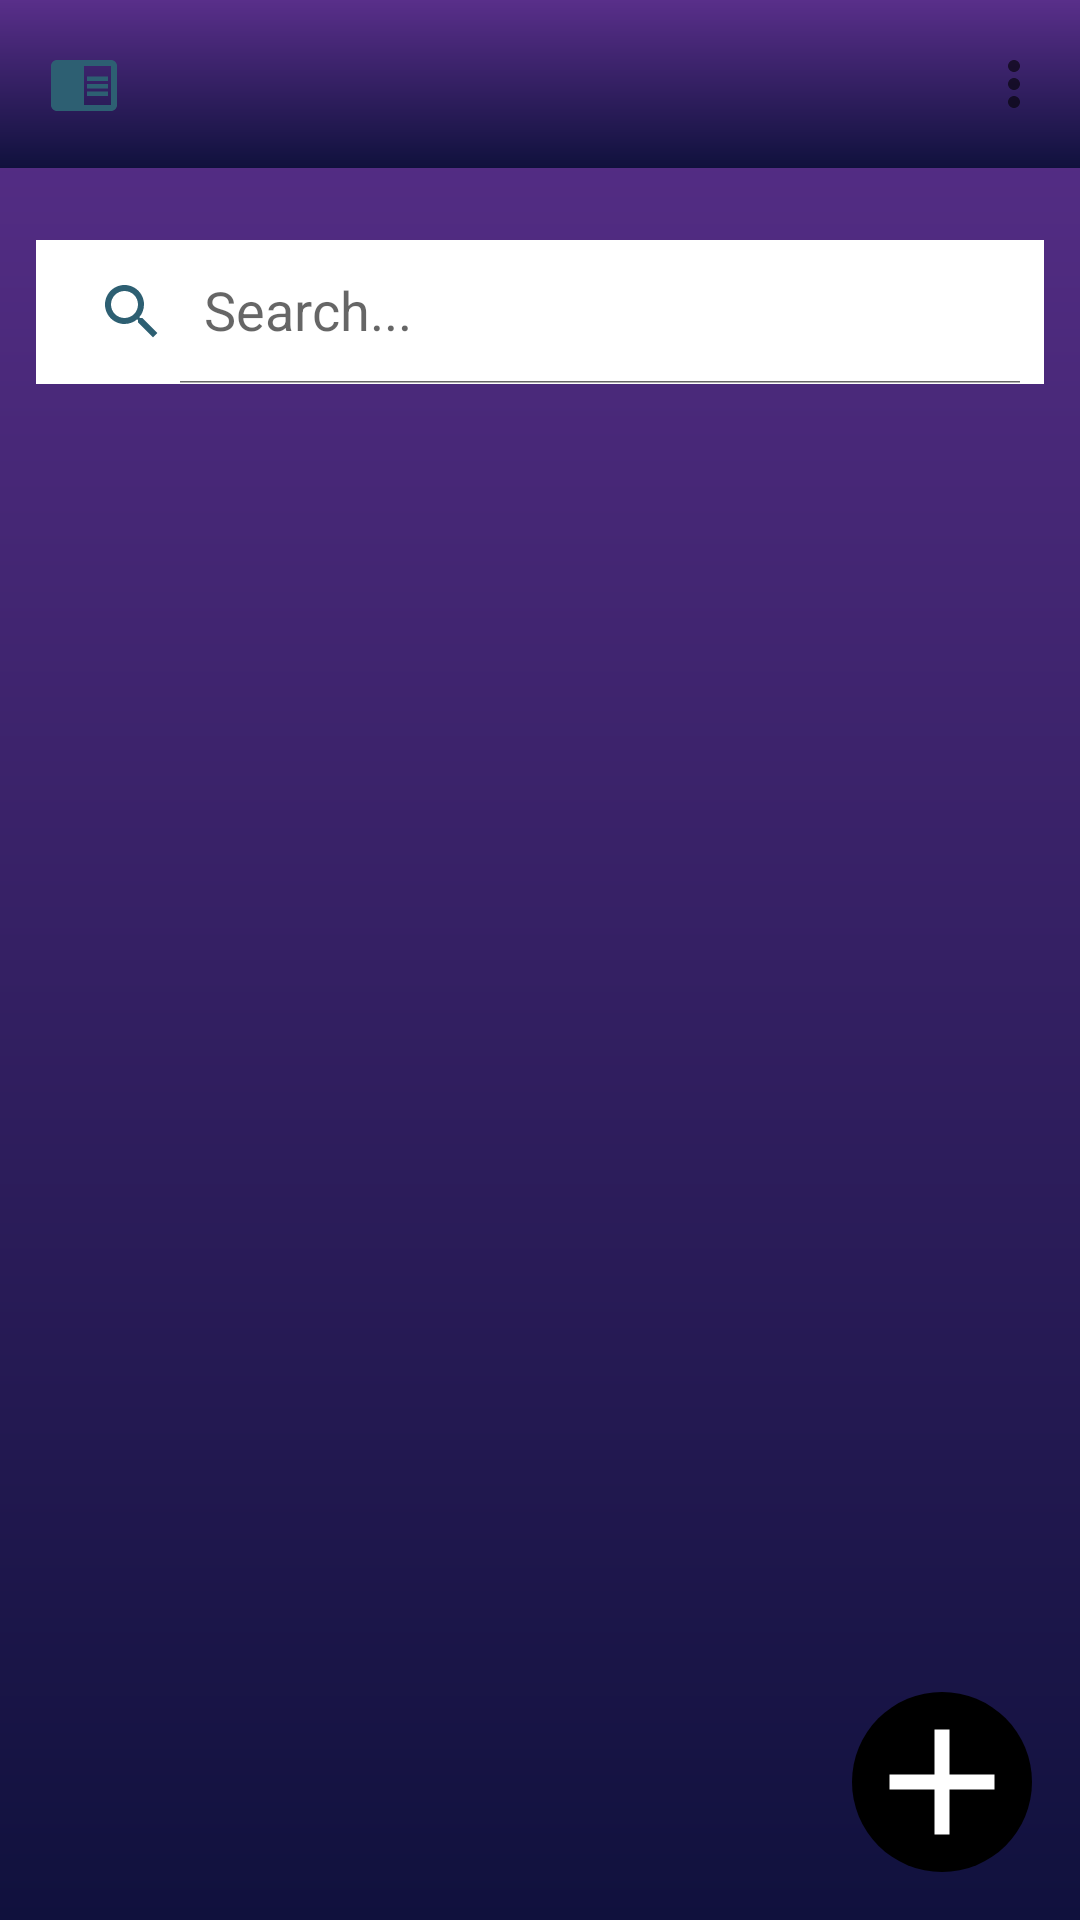

Icon bounding boxes for this 1080px×1920px phone screenshot, format (x1, y1, x2, y2):
add: (852, 1692, 1032, 1872)
